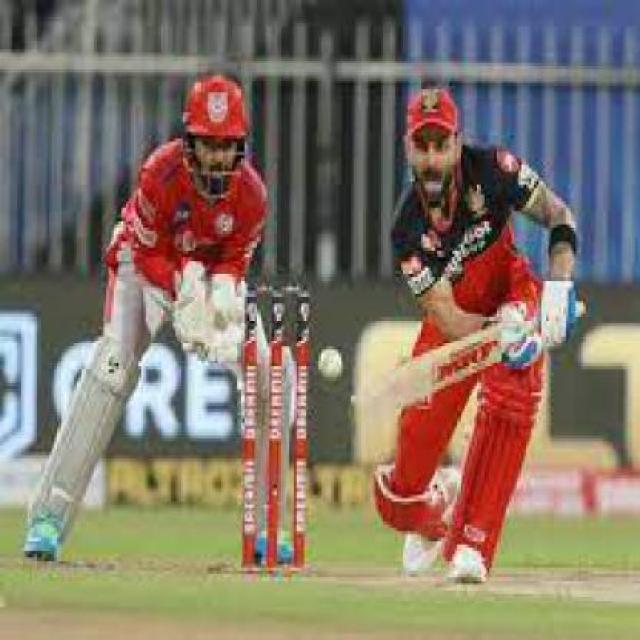ball: (300, 336, 355, 398)
